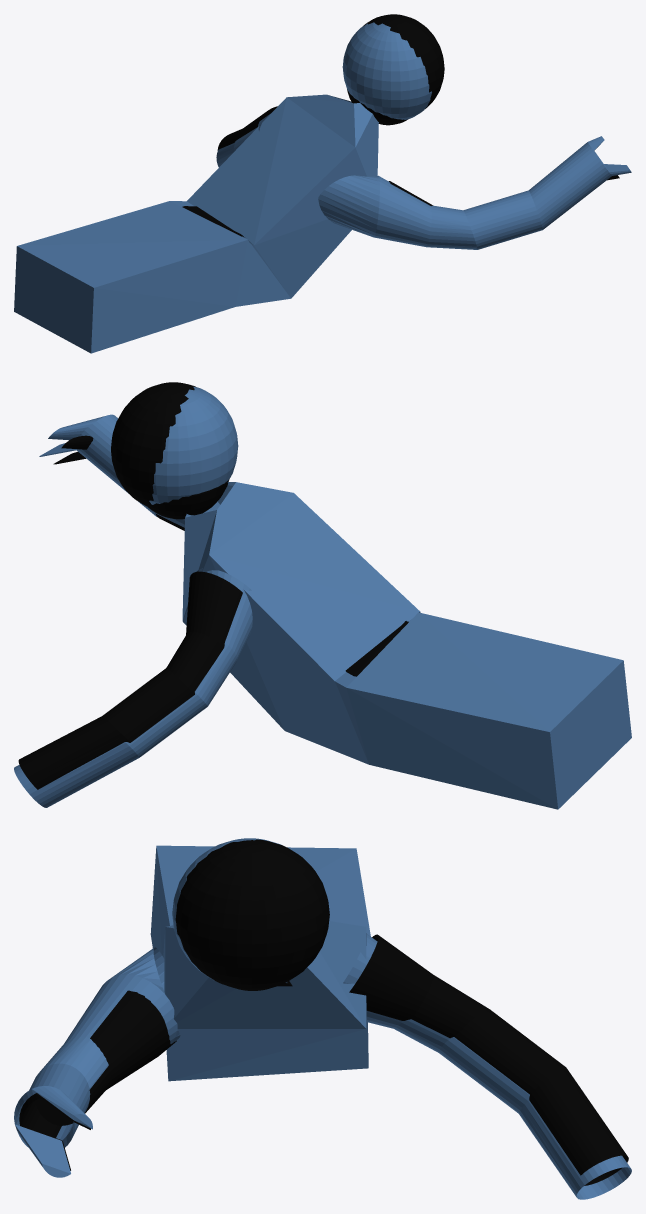
File: robot.obj
3 renders of one model, top to bottom at view 1: azimuth 30°, elevation 25°; view 2: azimuth 150°, elevation 25°; view 3: azimuth 270°, elevation 25°, orthographic. The views are drawn at different scales.
Parts seen in each view (by area): view 1: Cylinder.003; view 2: Cylinder.003; view 3: Cylinder.003.
Part boxes in pixels (<box>): Cylinder.003: <box>14,14,631,353</box>; Cylinder.003: <box>14,382,631,809</box>; Cylinder.003: <box>14,838,631,1199</box>.
Bounding box in the file's own units: 4.24 × 1.95 × 3.
